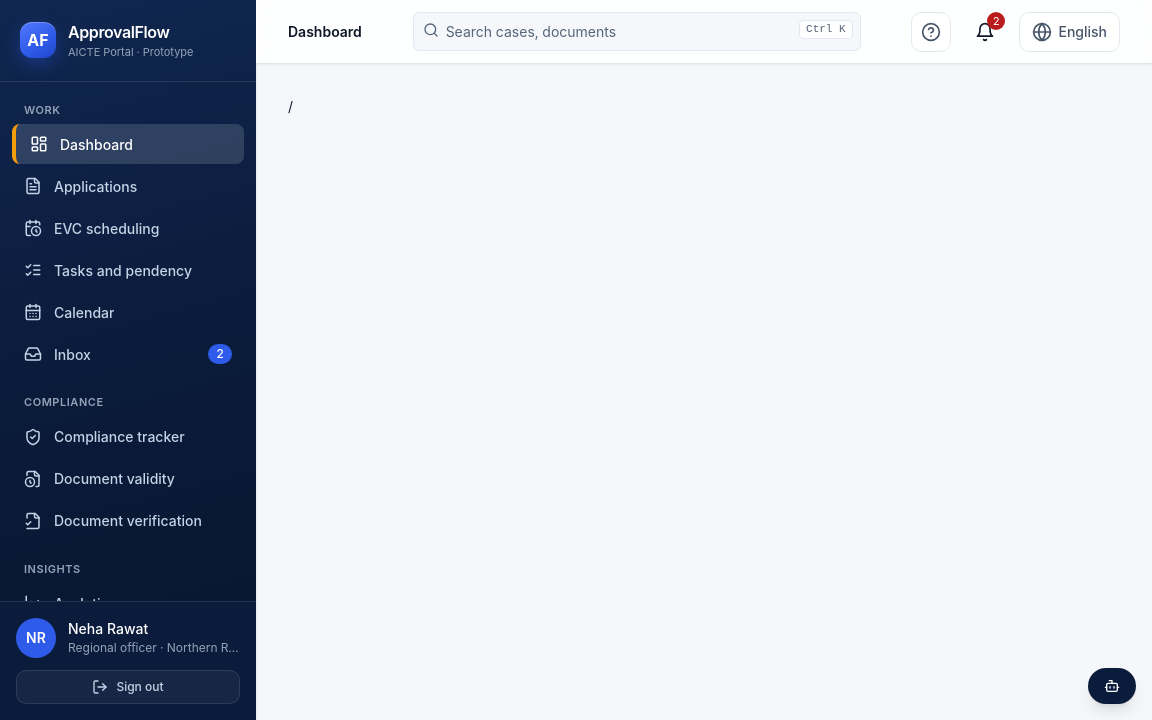
Test: application shell › opens contextual help with the meaning of each status
This screenshot has width=1152, height=720.
Click the button named "Help" at [931, 32], box [911,12,951,52]
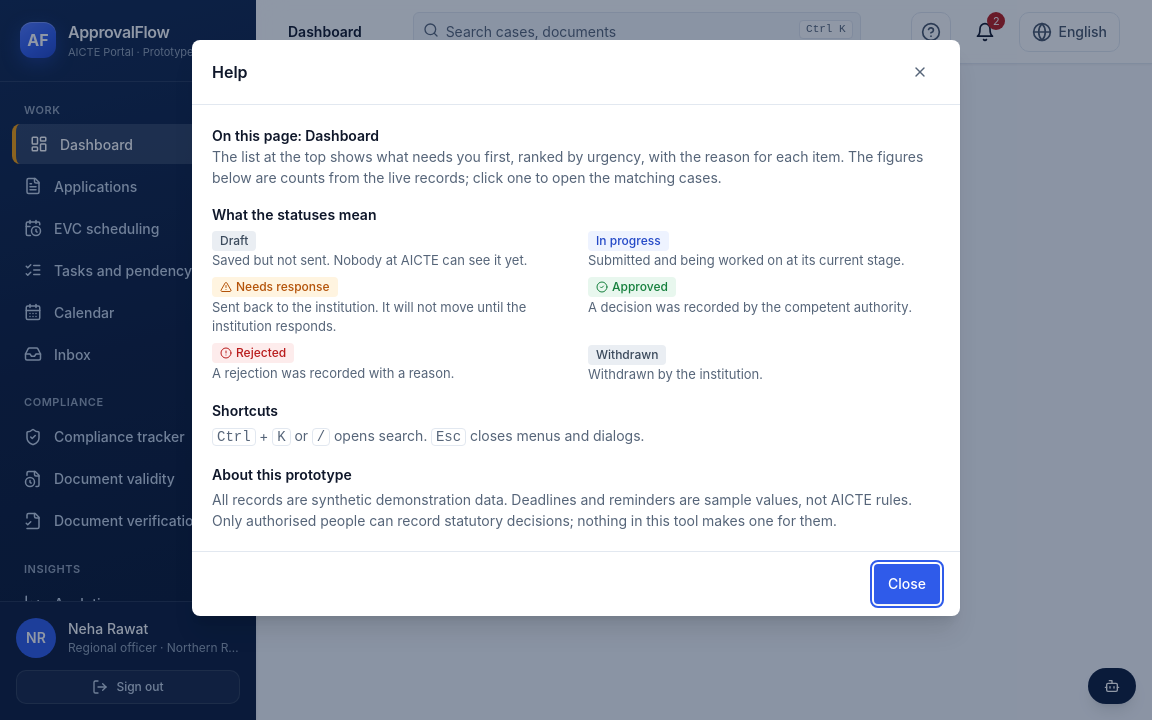
Now the heading "On this page: Dashboard" is shown, box [212,127,379,144]
Now the text "Saved but not sent. Nobody at AICTE can see it yet." is shown, box [212,251,564,270]
Now the text "Only authorised people can record statutory decisions" is shown, box [212,491,912,529]
